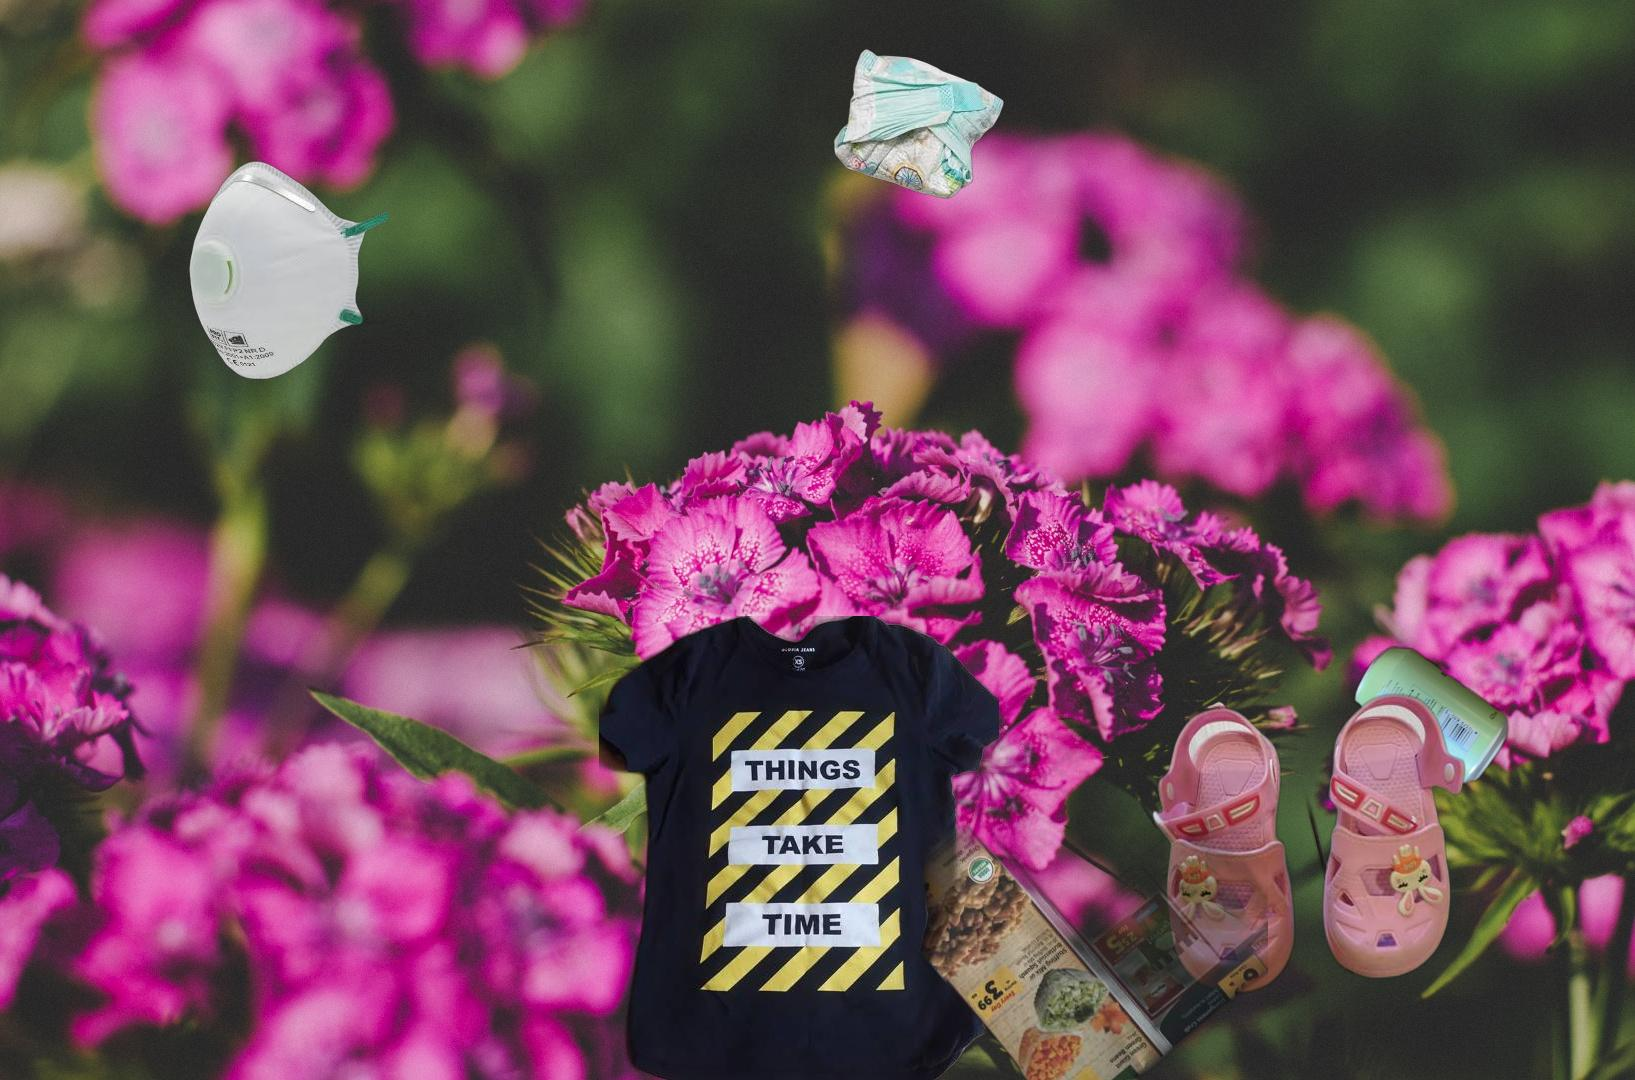clothes: (599, 616, 999, 1080)
metal-cans: (1349, 642, 1513, 790)
paper: (858, 732, 1268, 1080)
shoes: (1149, 689, 1469, 998)
trash: (187, 158, 388, 382), (831, 46, 1007, 201)
